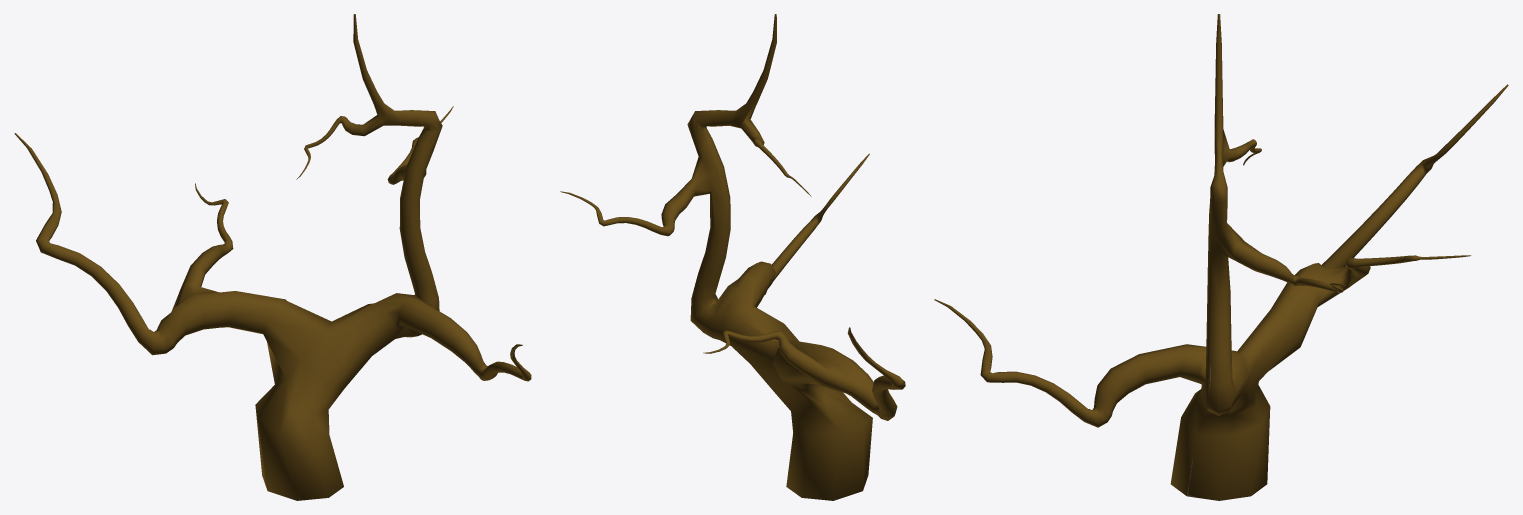
Rendered from Tree.fbx.
3 views of the same model, side by side, from view 1: azimuth 30°, elevation 25°; view 2: azimuth 150°, elevation 25°; view 3: azimuth 270°, elevation 25° (orthographic). The views are drawn at different scales.
Visible parts, largest first — view 1: Tree; view 2: Tree; view 3: Tree.
Boxes of the visible parts, x1,y1,x2,y2 form: Tree: (14, 14, 531, 500); Tree: (560, 14, 905, 500); Tree: (934, 14, 1508, 500).
Size of the model in its own units: 17.22 by 19.75 by 20.76.
Materials: 1 (1 with a texture image).
